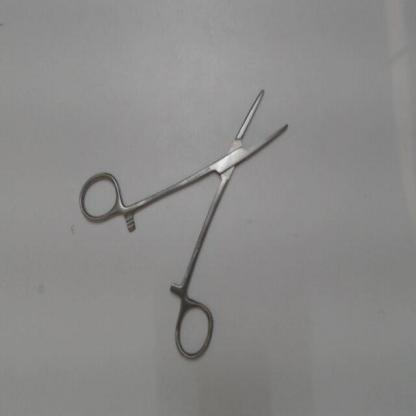Mayo Needle Holder: (74, 77, 302, 368)
